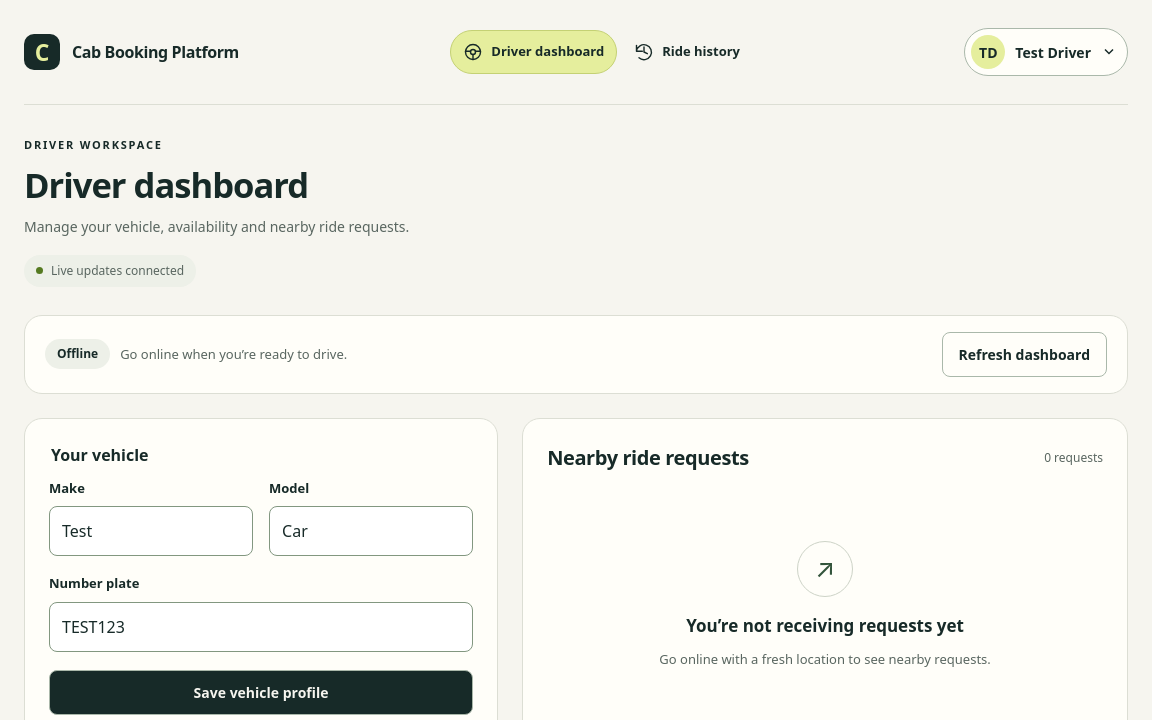
it: failed header logout preserves the session and a successful retry returns to sign-in
Expected: the navigation bar named "Workspace sections" is shown, x1=450 y1=30 x2=740 y2=74
Click the button with aria-label "My account".
click(1046, 52)  # box x1=964 y1=28 x2=1128 y2=76
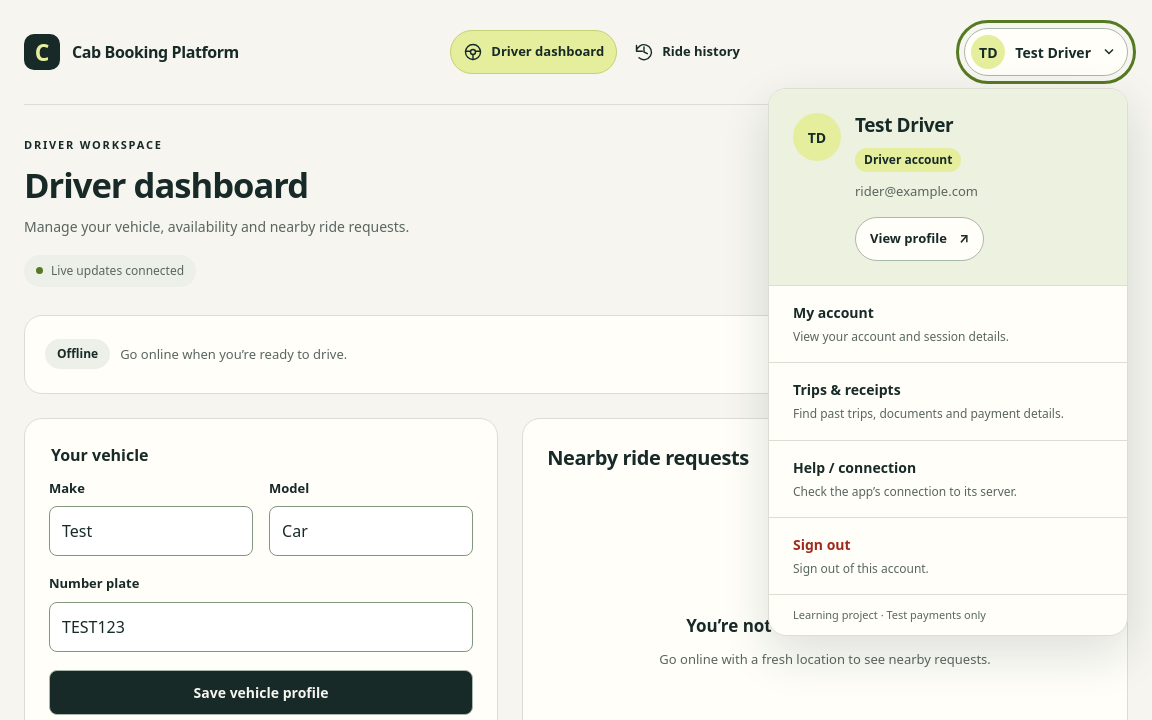
Click the button "Sign out Sign out of this account.".
click(822, 544)  # box x1=769 y1=517 x2=1127 y2=594
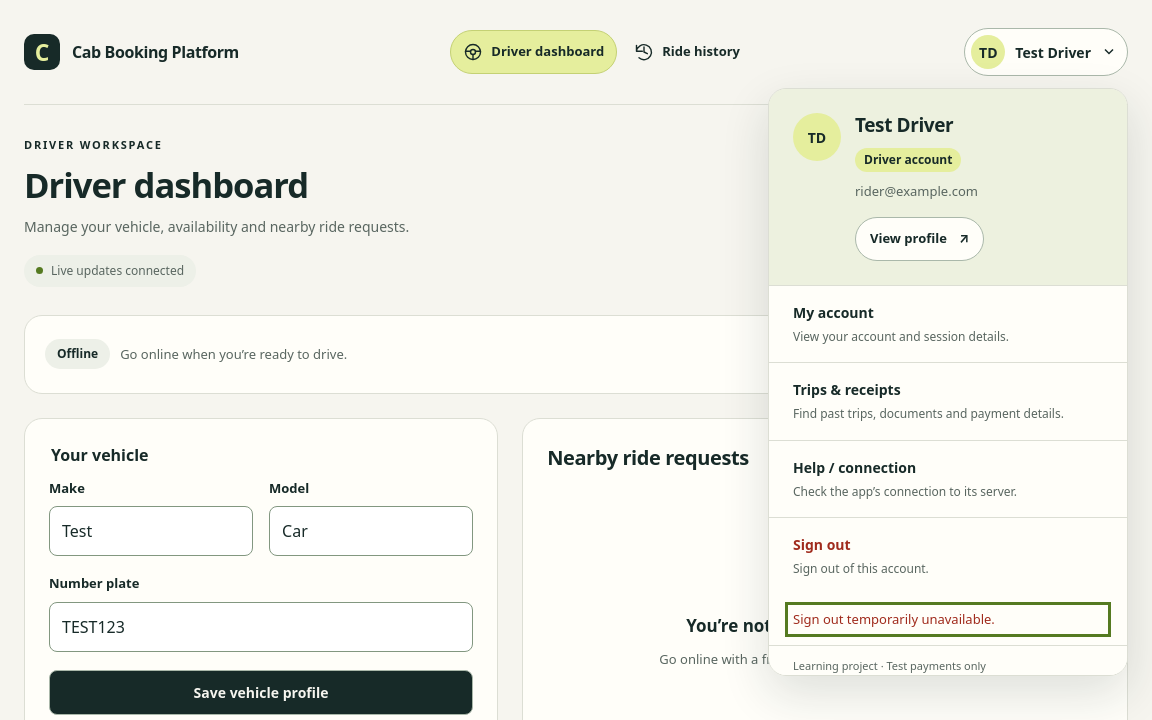
Expected: the heading "Driver dashboard" is shown, x1=24 y1=160 x2=308 y2=208
Result: the message "Sign out temporarily unavailable." is shown at x1=793 y1=610 x2=995 y2=628
Click the button "Sign out Sign out of this account.".
click(822, 544)  # box x1=769 y1=517 x2=1127 y2=594
(page scrolled)
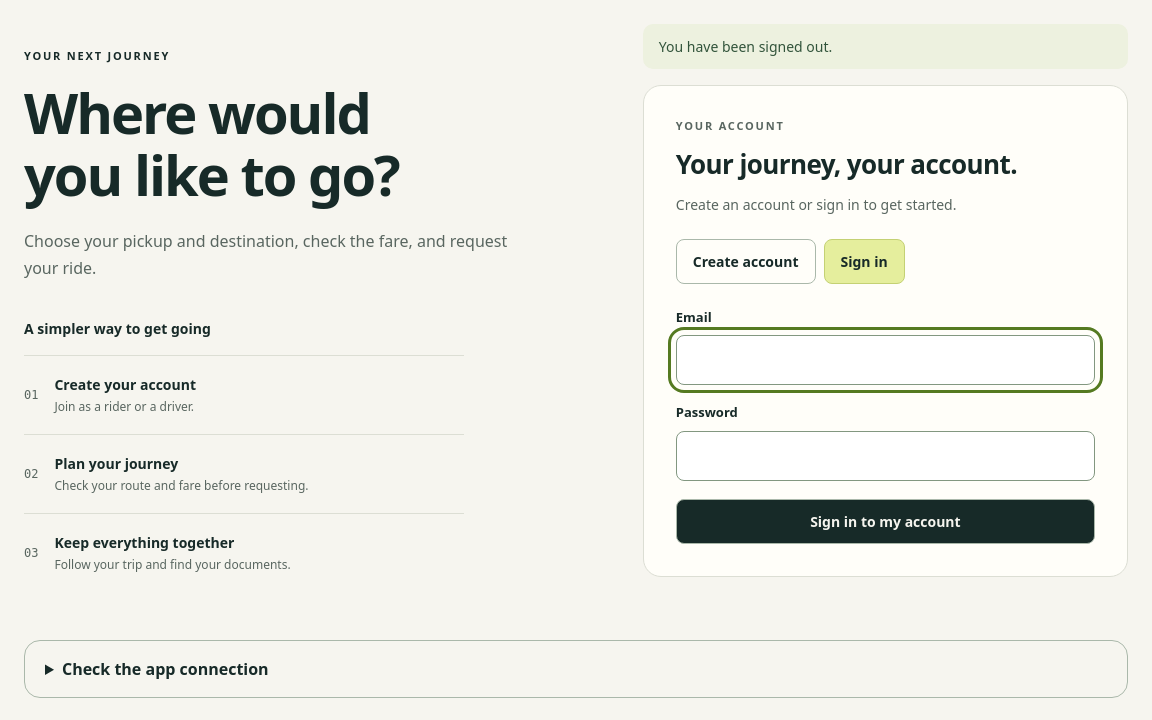
Result: the text "You have been signed out." is shown at x1=643 y1=24 x2=1128 y2=69
